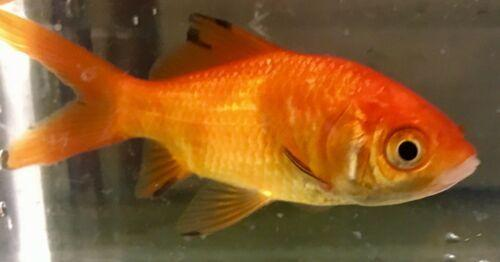Gold Fish: (1, 9, 481, 238)
